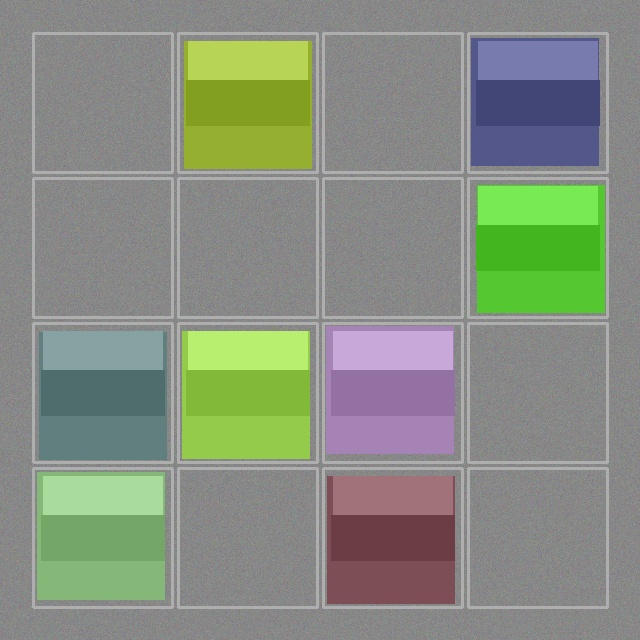space-empty: (35, 35, 170, 170), (325, 35, 460, 170), (35, 180, 170, 315), (180, 180, 315, 315), (325, 180, 460, 315), (470, 325, 605, 460), (180, 470, 315, 605), (470, 470, 605, 605)
space-occupied: (180, 35, 315, 170), (470, 35, 605, 170), (470, 180, 605, 315), (35, 325, 170, 460), (180, 325, 315, 460), (325, 325, 460, 460), (35, 470, 170, 605), (325, 470, 460, 605)
